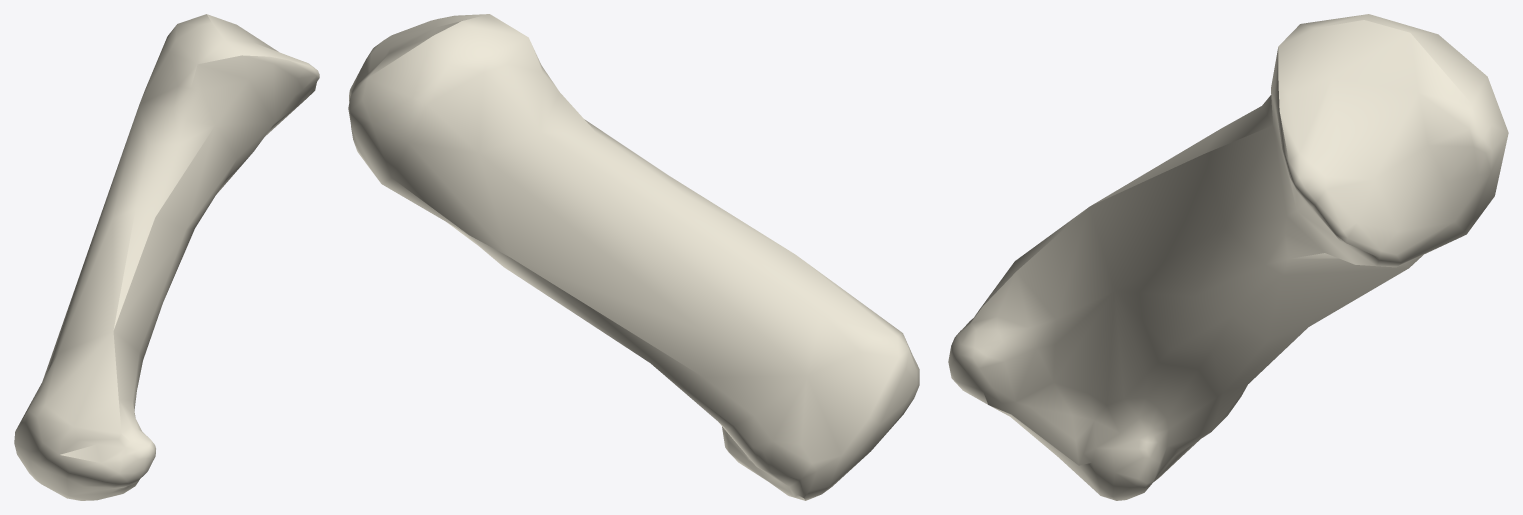
File: fma24464_fj3350.glb
The picture shows the model from 3 angles, left to right: view 1: azimuth 30°, elevation 25°; view 2: azimuth 150°, elevation 25°; view 3: azimuth 270°, elevation 25°; orthographic projection. The views are drawn at different scales.
Parts seen in each view (by area): view 1: FMA24464_FJ3350; view 2: FMA24464_FJ3350; view 3: FMA24464_FJ3350.
Part boxes in pixels (bbox=[...]): FMA24464_FJ3350: bbox=[14, 14, 319, 500]; FMA24464_FJ3350: bbox=[348, 14, 919, 500]; FMA24464_FJ3350: bbox=[948, 14, 1508, 500].
Bounding box in the file's own units: 0.0373 × 0.037 × 0.0302.
